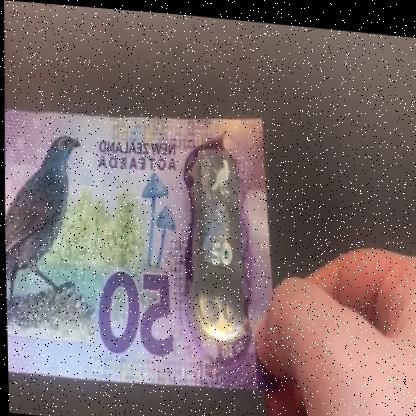50B: (193, 147, 240, 330)
